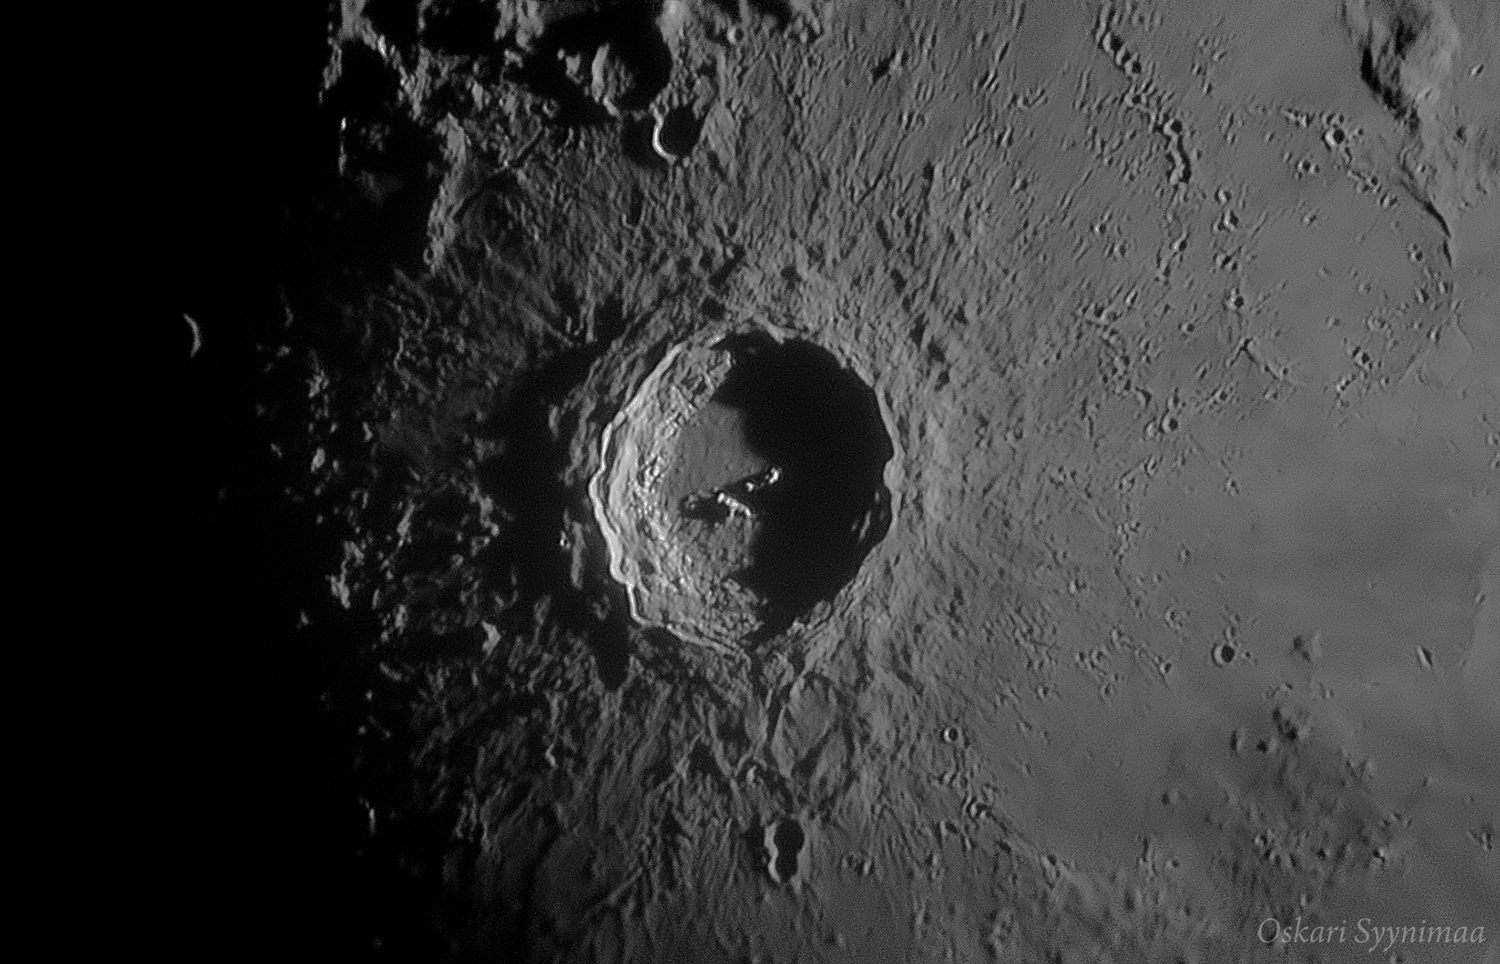crater: (477, 266, 1019, 773), (565, 15, 679, 126)
